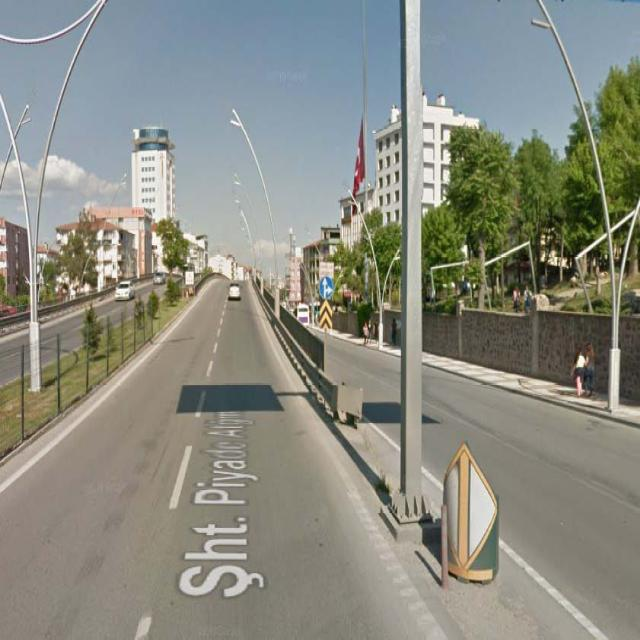ilerisag: (319, 277, 332, 297)
